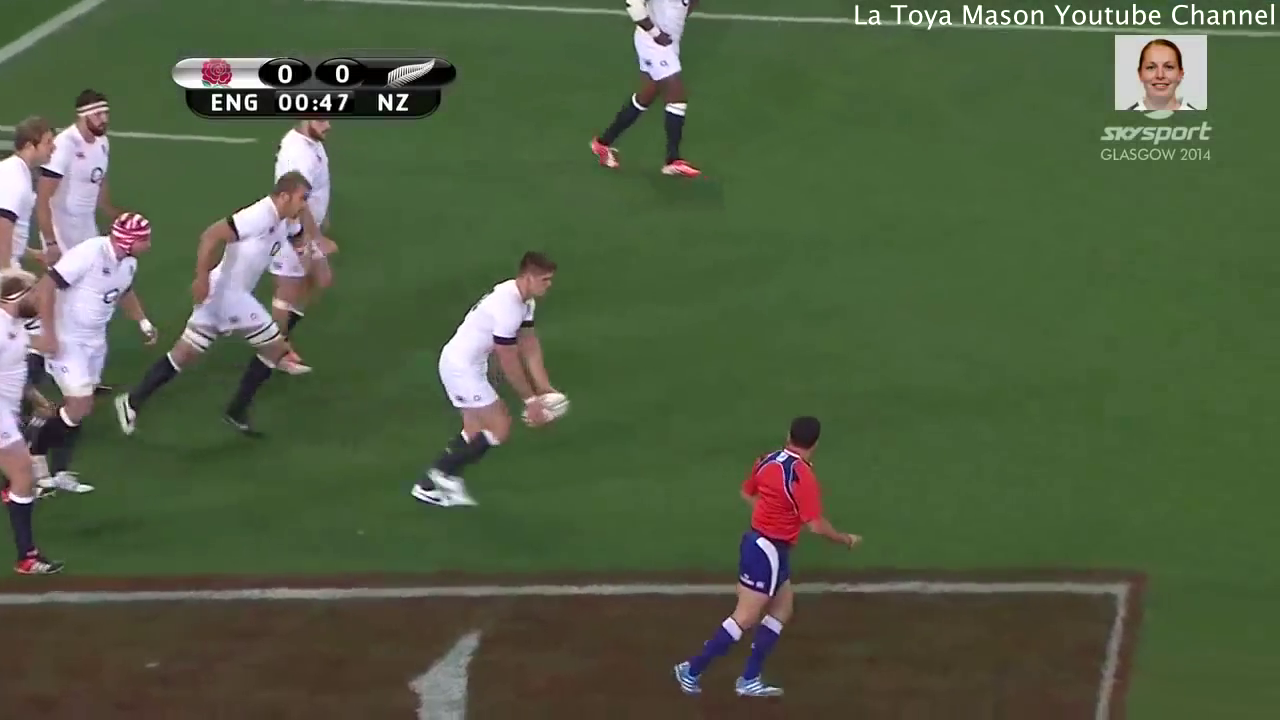ball: (513, 380, 576, 432)
player: (663, 404, 870, 710), (107, 168, 315, 460), (405, 251, 583, 519), (37, 212, 148, 509), (578, 1, 718, 185), (1, 250, 72, 584), (49, 92, 118, 244), (1, 111, 57, 256), (263, 120, 341, 220)
